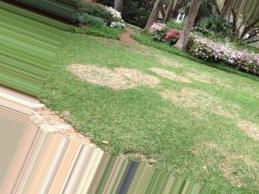patch: (80, 64, 139, 89), (169, 82, 220, 109), (197, 140, 237, 171), (228, 112, 259, 135), (161, 70, 178, 82)
